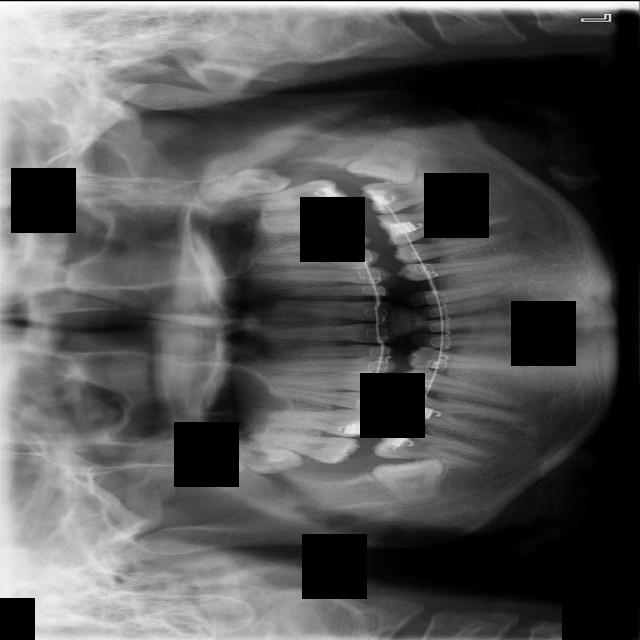3M ESPE Implant: (212, 437, 306, 478)
73: (592, 16, 602, 22)
BioHorizons Implant: (239, 178, 349, 210)
BioLife Implant: (196, 162, 296, 206)
Biomet 3i Implant: (347, 130, 423, 186)
Blue Sky Bio Implant: (364, 168, 476, 215)
Caries: (248, 430, 361, 464)
Implant: (374, 423, 494, 468)
Keystone Dental Implant: (368, 455, 446, 509)
